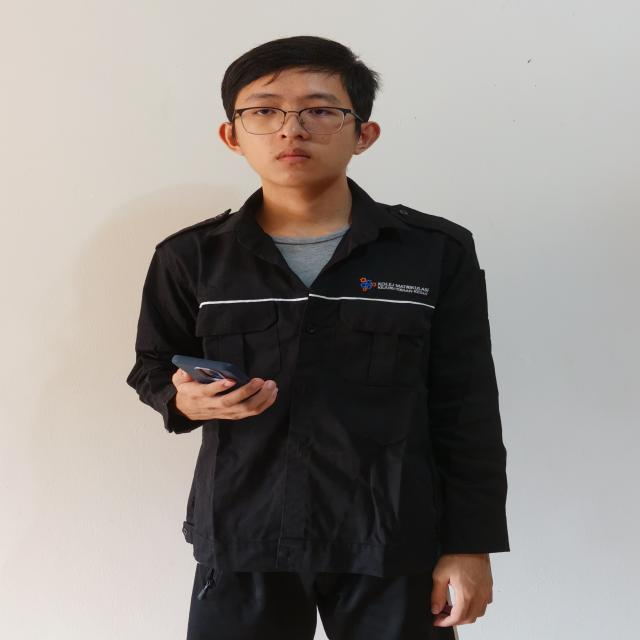person_with_labcoat: (128, 37, 509, 640)
